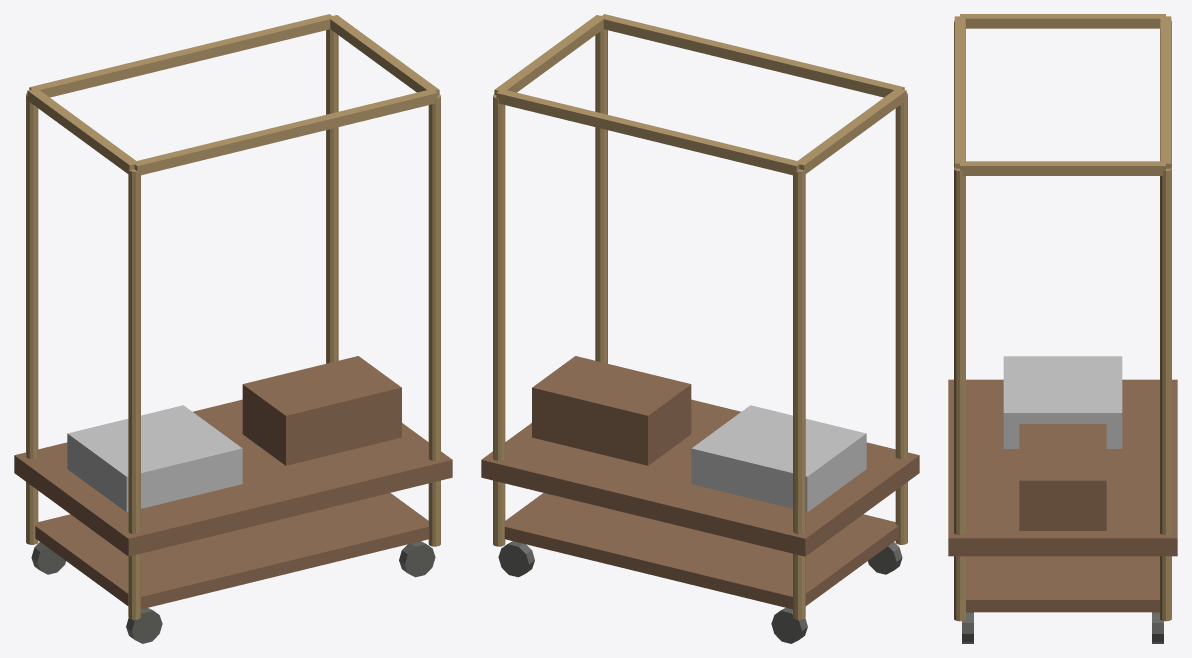
File: corridor_luggage_cart.glb
3 renders of one model, left to right at view 1: azimuth 30°, elevation 25°; view 2: azimuth 150°, elevation 25°; view 3: azimuth 270°, elevation 25°, orthographic.
Visible parts, largest first — view 1: corridor_luggage_cart; view 2: corridor_luggage_cart; view 3: corridor_luggage_cart.
Part boxes in pixels (box(x1,y1,x2,y2)): corridor_luggage_cart: box(14, 14, 452, 643); corridor_luggage_cart: box(481, 14, 919, 643); corridor_luggage_cart: box(948, 14, 1177, 643).
Bounding box in the file's own units: 0.95 × 1.35 × 0.58.
